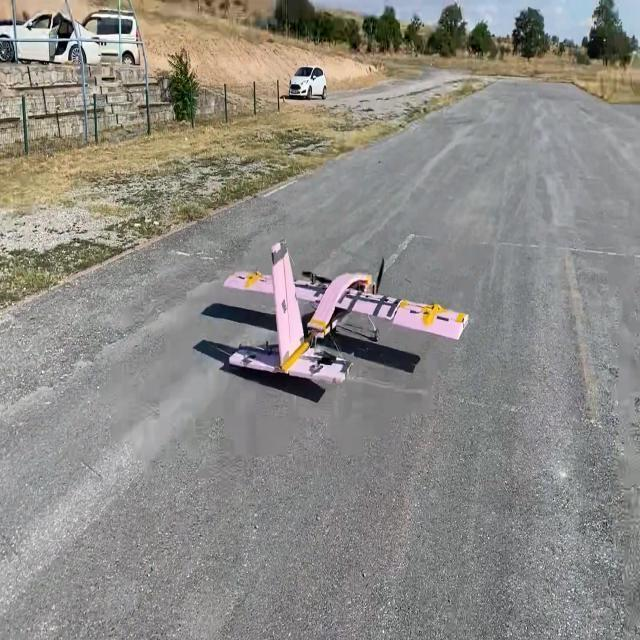Airplane: (216, 240, 472, 395)
